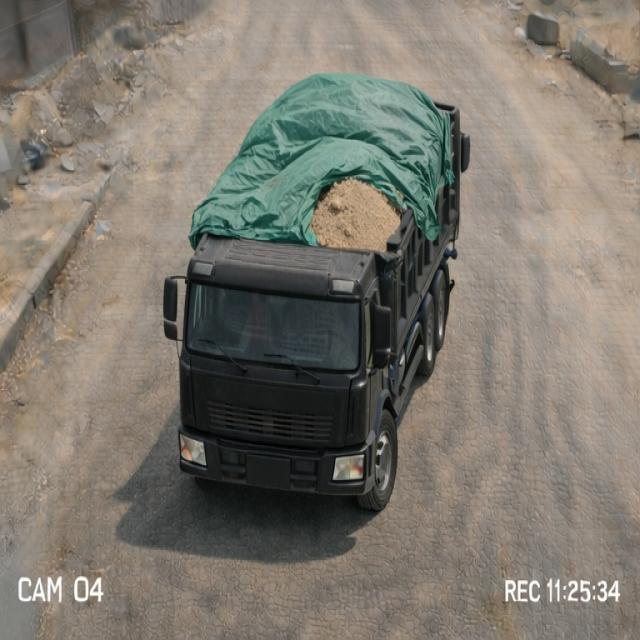trailer: (186, 72, 482, 258)
truck: (159, 45, 503, 503)
